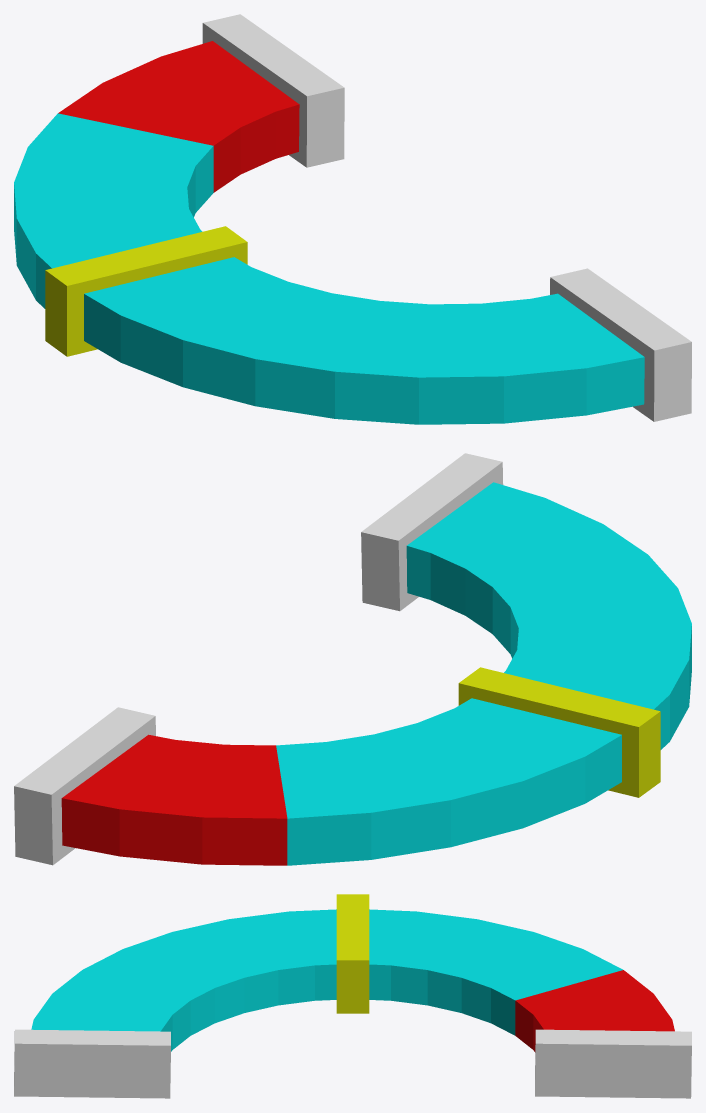
The model's file is power_meter.fbx.
The picture shows the model from 3 angles, top to bottom: view 1: azimuth 30°, elevation 25°; view 2: azimuth 150°, elevation 25°; view 3: azimuth 270°, elevation 25°; orthographic projection. The views are drawn at different scales.
Visible parts, largest first — view 1: PowerMeter, PositionIndicator, PositionIndicator.002, PositionIndicator.001; view 2: PowerMeter, PositionIndicator, PositionIndicator.001, PositionIndicator.002; view 3: PowerMeter, PositionIndicator.002, PositionIndicator.001, PositionIndicator.
Boxes of the visible parts, bbox=[...] form: PowerMeter: bbox=[14, 41, 644, 424]; PositionIndicator: bbox=[45, 226, 247, 356]; PositionIndicator.002: bbox=[550, 268, 691, 421]; PositionIndicator.001: bbox=[202, 14, 344, 167]; PowerMeter: bbox=[61, 482, 691, 865]; PositionIndicator: bbox=[458, 667, 660, 797]; PositionIndicator.001: bbox=[14, 707, 155, 865]; PositionIndicator.002: bbox=[361, 453, 503, 611]; PowerMeter: bbox=[31, 909, 674, 1052]; PositionIndicator.002: bbox=[14, 1029, 170, 1098]; PositionIndicator.001: bbox=[535, 1029, 691, 1098]; PositionIndicator: bbox=[336, 894, 369, 1013].
Bounding box in the file's own units: 109 × 18.83 × 208.
